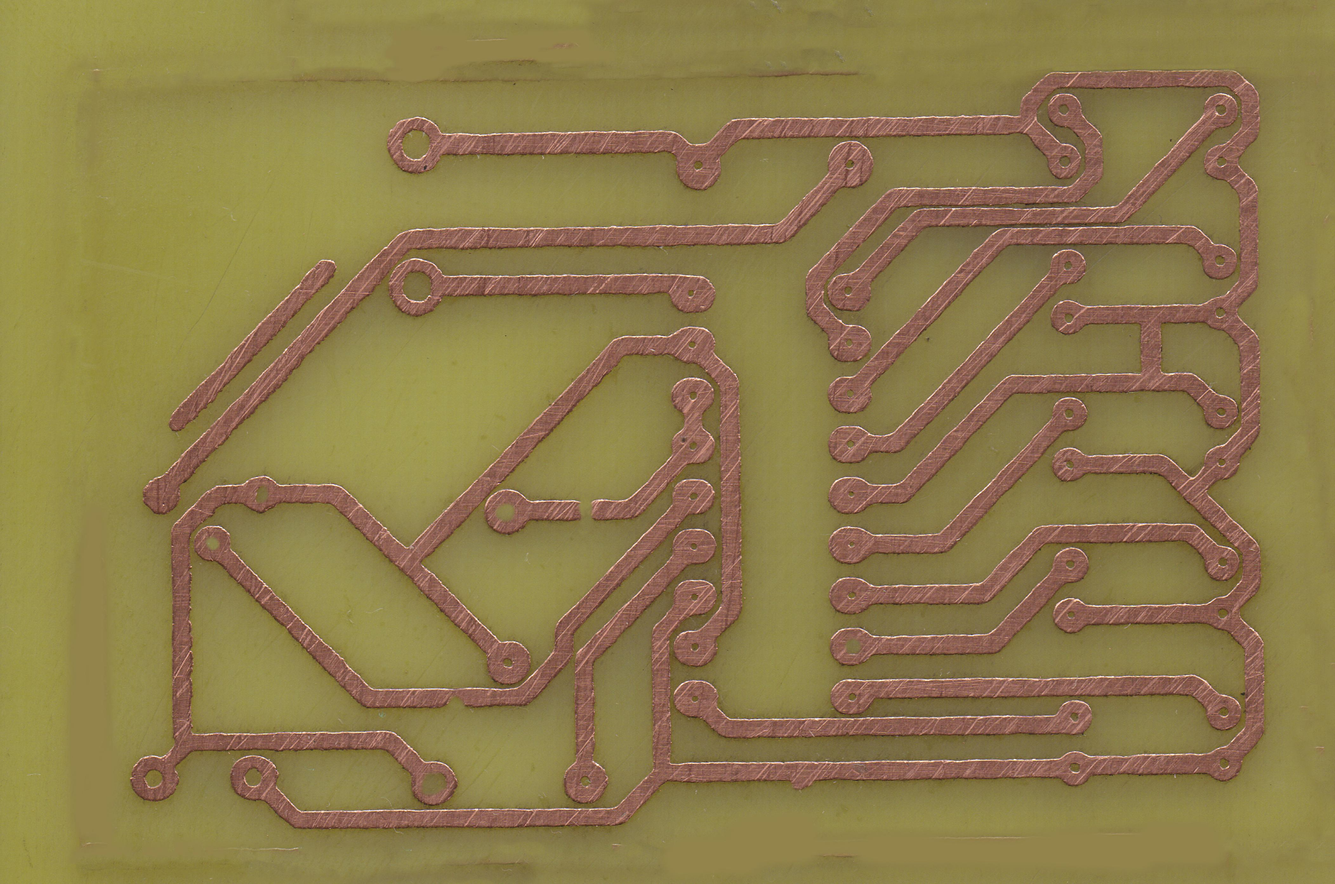mouse_bite: (436, 685, 476, 712)
open_circuit: (563, 498, 611, 525)
short: (1130, 303, 1172, 393)
spur: (781, 760, 821, 796)
spurious_copper: (165, 254, 345, 438)
